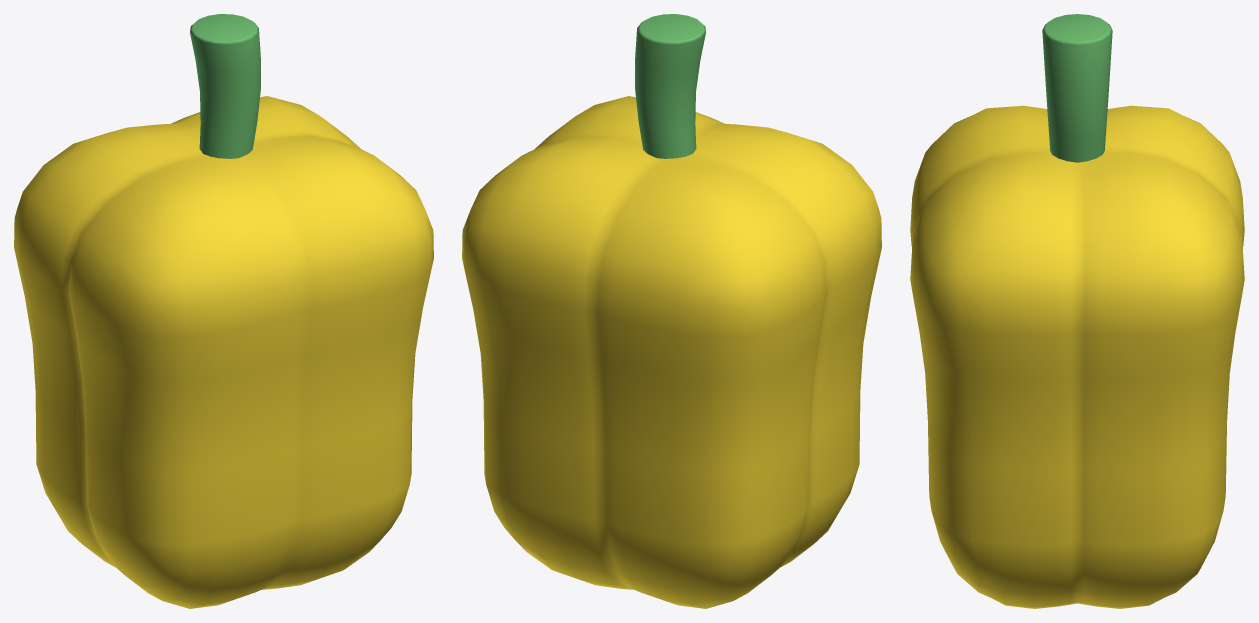
File: Bell_Pepper_Yellow.fbx
The picture shows the model from 3 angles, left to right: view 1: azimuth 30°, elevation 25°; view 2: azimuth 150°, elevation 25°; view 3: azimuth 270°, elevation 25°; orthographic projection.
Parts seen in each view (by area): view 1: Bell_Pepper_Yellow; view 2: Bell_Pepper_Yellow; view 3: Bell_Pepper_Yellow.
Part boxes in pixels (box(x1,y1,x2,y2)): Bell_Pepper_Yellow: box(14, 14, 433, 608); Bell_Pepper_Yellow: box(462, 14, 881, 608); Bell_Pepper_Yellow: box(910, 14, 1244, 608).
Bounding box in the file's own units: 11.91 × 19.13 × 10.51.
